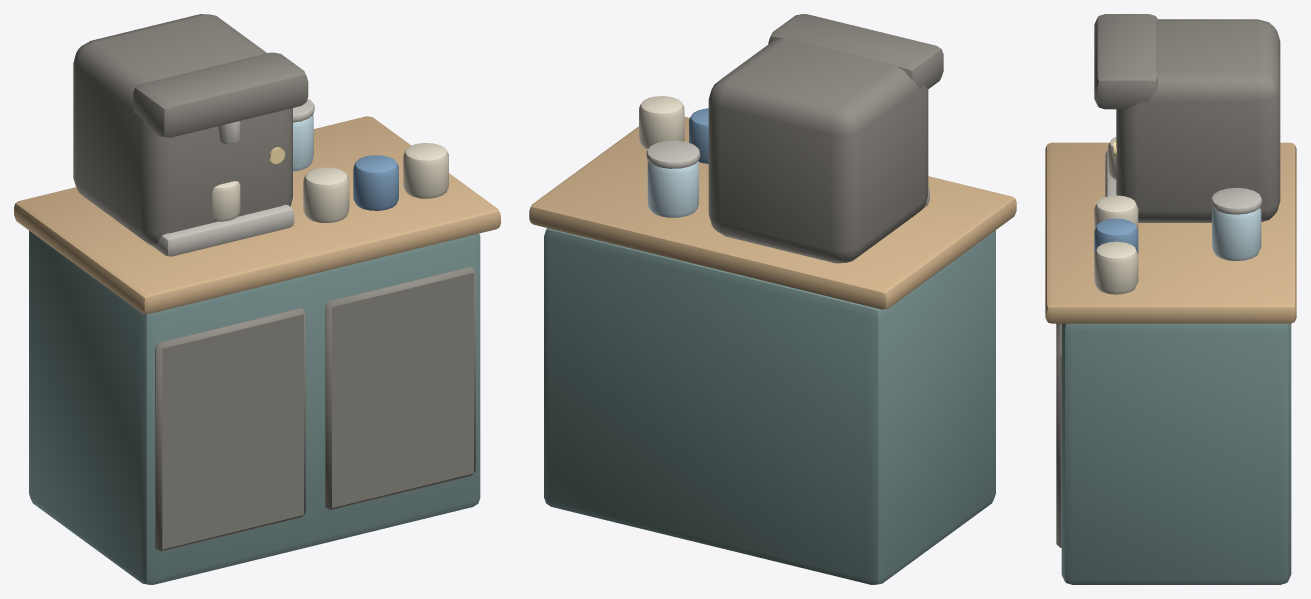
Rendered from coffee_machine.glb.
3 renders of one model, left to right at view 1: azimuth 30°, elevation 25°; view 2: azimuth 150°, elevation 25°; view 3: azimuth 270°, elevation 25°, orthographic. The views are drawn at different scales.
Parts seen in each view (by area): view 1: steel_dark, paint, wood, cream, steel, plastic, glass; view 2: paint, steel_dark, wood, glass, cream, steel, plastic; view 3: paint, steel_dark, wood, cream, glass, steel, plastic.
Boxes of the visible parts, box(x1,y1,x2,y2) form: steel_dark: box(73, 14, 475, 551); paint: box(29, 230, 480, 584); wood: box(14, 116, 500, 313); cream: box(212, 143, 448, 222); steel: box(152, 99, 314, 256); plastic: box(353, 155, 398, 210); glass: box(293, 115, 313, 171); paint: box(544, 228, 995, 584); steel_dark: box(708, 14, 943, 263); wood: box(529, 117, 1016, 309); glass: box(647, 161, 698, 217); cream: box(639, 96, 684, 149); steel: box(646, 140, 929, 208); plastic: box(689, 108, 708, 163); paint: box(1061, 323, 1291, 584); steel_dark: box(1056, 14, 1280, 547); wood: box(1045, 142, 1296, 323); cream: box(1094, 137, 1138, 294); glass: box(1212, 207, 1261, 260); steel: box(1105, 150, 1262, 214); plastic: box(1094, 218, 1138, 253).
Bounding box in the file's own units: 0.72 × 0.885 × 0.46.
